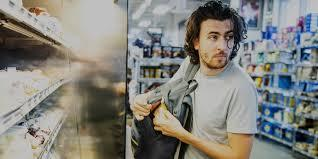shoplifting: (126, 62, 211, 155)
